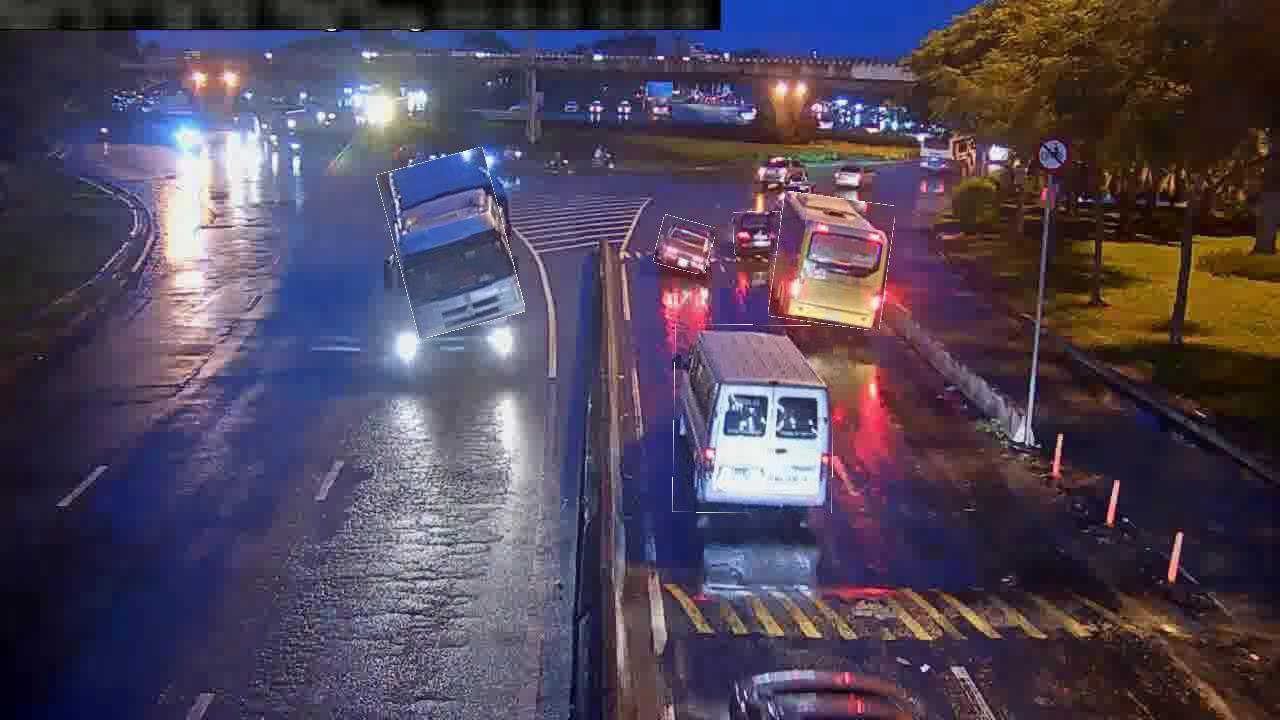14: (673, 324, 834, 514), (772, 194, 892, 328)
8: (386, 153, 516, 334)
container: (656, 217, 714, 272), (734, 212, 782, 256)
